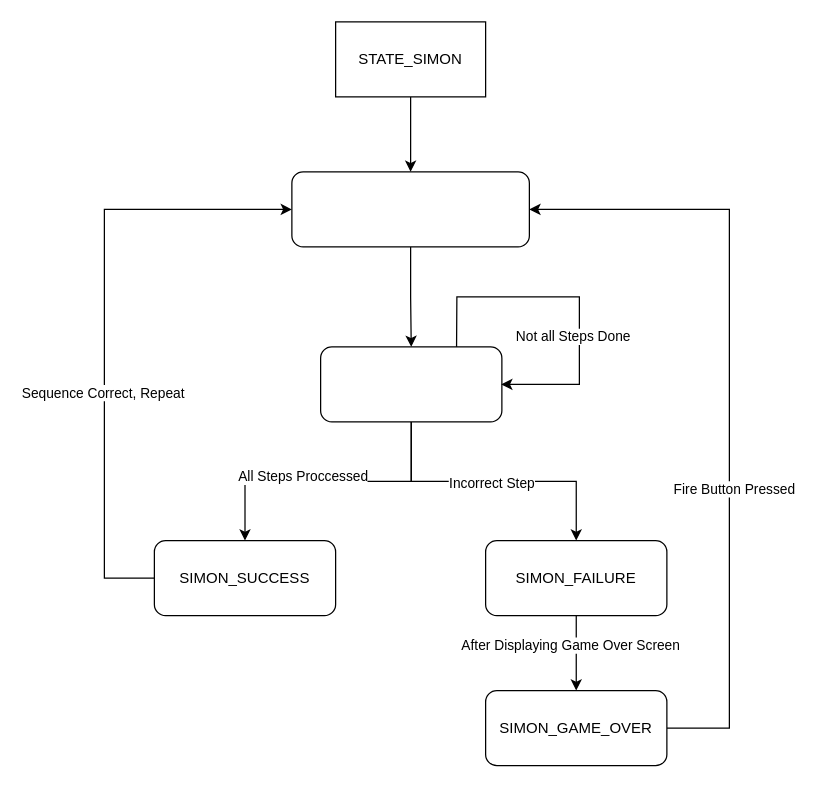
The diagram is 816 pixels wide and 788 high, and some of its shapes have lost their labels. The shapes that lost their labels are listed below. From the top down, each one's box as (x1, y1, x2, y2) in pixels, then its label:
(291, 171, 529, 247): SIMON_SHOWING_SEQUENCE
(319, 346, 502, 422): SIMON_WAITING_INPUT
